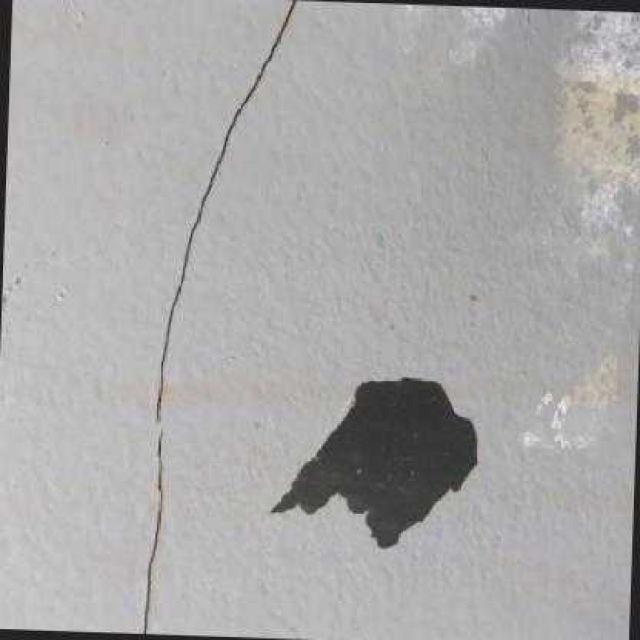D00: (155, 0, 295, 423), (142, 429, 161, 634)
